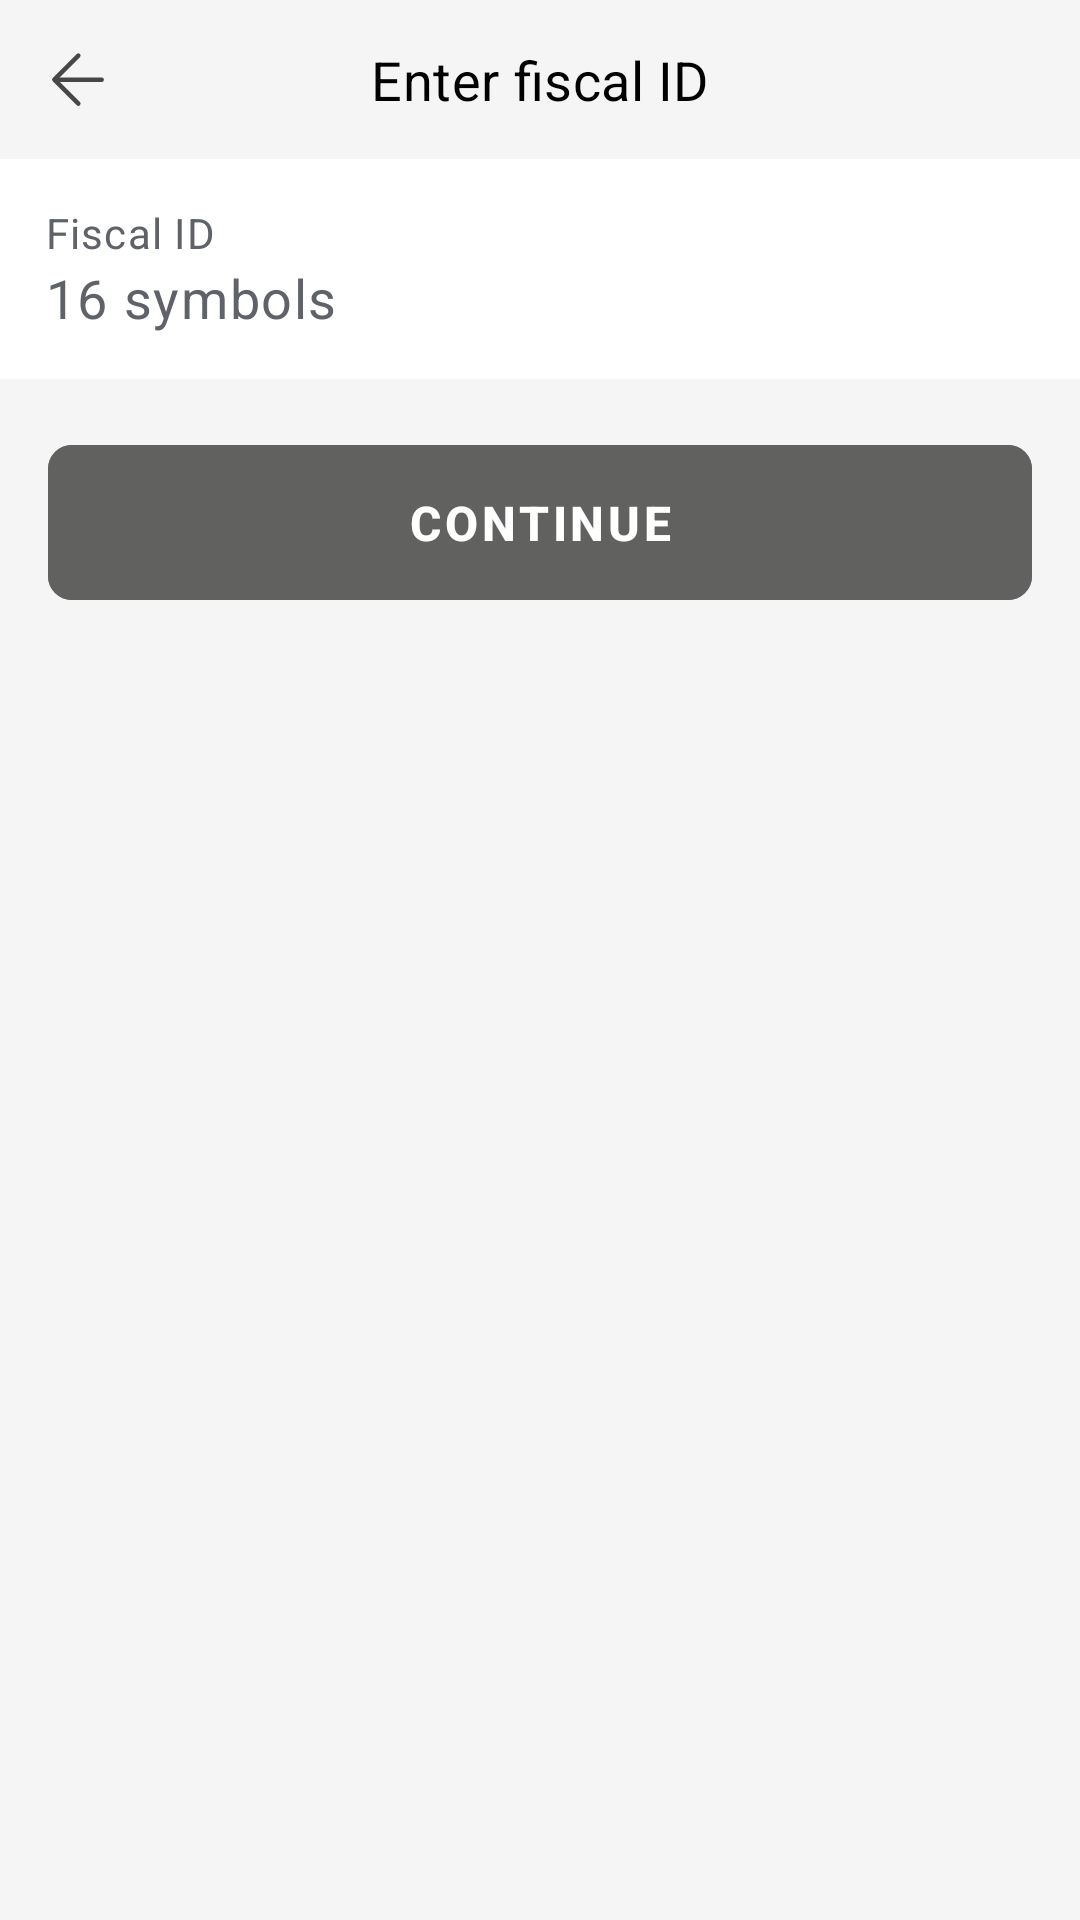

Screen size 1080*1920. Icon name, then its box in pixels as (x1=x1, y1=y1, x2=x2, y2=y2):
arrow back: (x1=52, y1=53, x2=104, y2=106)
